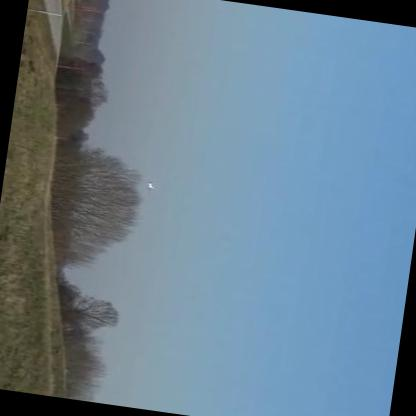plane: (143, 178, 159, 194)
